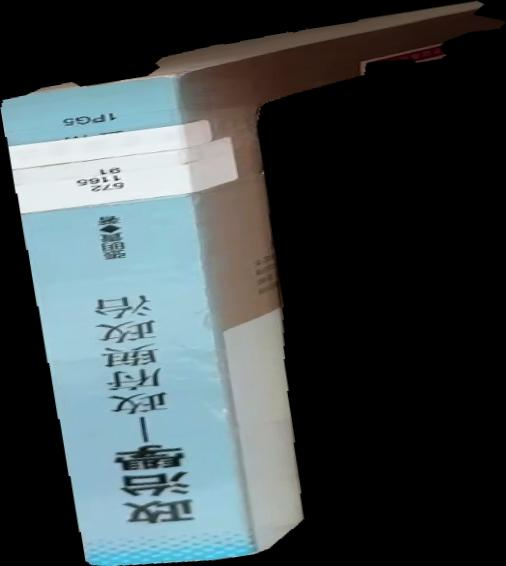reverse: (1, 1, 506, 566)
